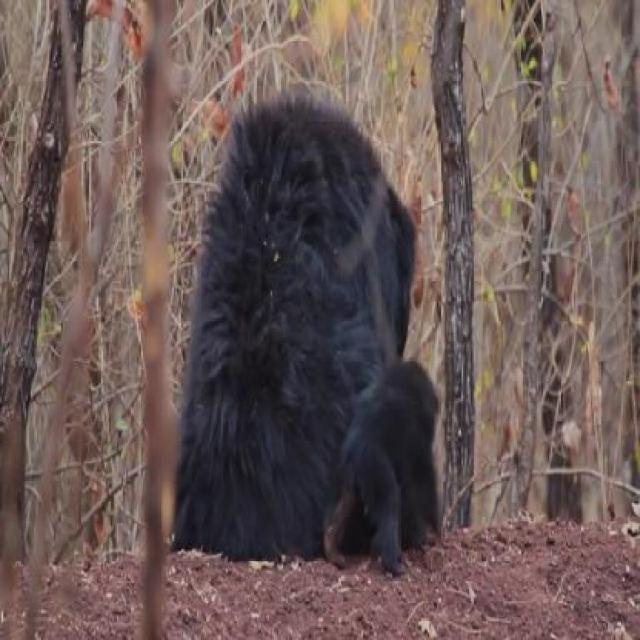Bear: (181, 0, 434, 582)
